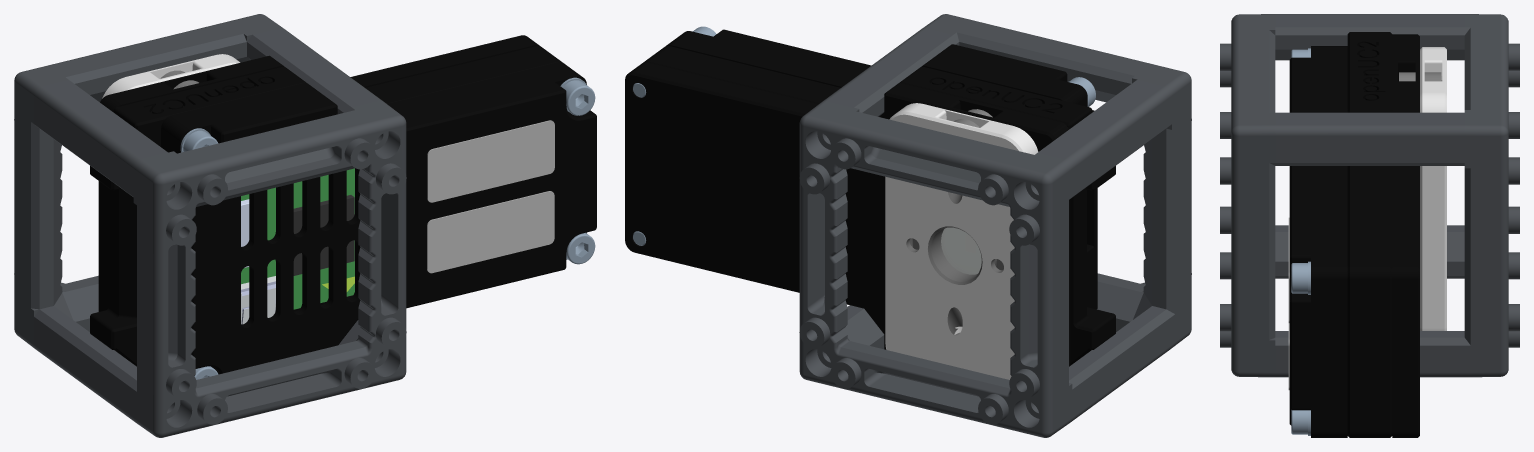
The model's file is ASS_-_2045_-_CUBCAM+RASPI0_-_V04.glb.
3 views of the same model, side by side, from view 1: azimuth 30°, elevation 25°; view 2: azimuth 150°, elevation 25°; view 3: azimuth 270°, elevation 25° (orthographic). The views are drawn at different scales.
Visible parts, largest first — view 1: PRT - 1003 - CUBHLF111 - V04:2, PRT - 2051 - INSCAMUPPHOU:1, PRT - 1003 - CUBHLF111 - V04:1, PRT - 2050 - INSCAM_RASPBERRY:1, PRT - 5003 - STKCAUDNTCOV25x10:1, PRT - 5001 - STKCAUHEA25x10:1, PRT - 2052 - INSCAMLOWHOU:1, BUY - Raspberry Pi 0:1, PRT - 2071 - SAMCLP:1, ISO 4762 - Hex socket head cap screw - M3 x 20 - 8.8 - A2K:1, ISO 4762 - Hex socket head cap screw - M3 x 20 - 8.8 - A2K:3; view 2: PRT - 1003 - CUBHLF111 - V04:1, PRT - 2052 - INSCAMLOWHOU:1, PRT - 1003 - CUBHLF111 - V04:2, PRT - 2071 - SAMCLP:1, PRT - 2050 - INSCAM_RASPBERRY:1, PRT - 2051 - INSCAMUPPHOU:1, BUY - Cover glass - D14 x 0.15 - Kopie:3; view 3: PRT - 1003 - CUBHLF111 - V04:2, PRT - 1003 - CUBHLF111 - V04:1, PRT - 2051 - INSCAMUPPHOU:1, PRT - 2050 - INSCAM_RASPBERRY:1, PRT - 2052 - INSCAMLOWHOU:1, PRT - 2071 - SAMCLP:1, ISO 4762 - Hex socket head cap screw - M3 x 20 - 8.8 - A2K:1, ISO 4762 - Hex socket head cap screw - M3 x 20 - 8.8 - A2K:3.
Part boxes in pixels (x1,y1,x2,y2): PRT - 1003 - CUBHLF111 - V04:2: (34, 28, 406, 437); PRT - 2051 - INSCAMUPPHOU:1: (161, 62, 596, 374); PRT - 1003 - CUBHLF111 - V04:1: (14, 14, 379, 358); PRT - 2050 - INSCAM_RASPBERRY:1: (90, 46, 562, 366); PRT - 5003 - STKCAUDNTCOV25x10:1: (427, 120, 554, 202); PRT - 5001 - STKCAUHEA25x10:1: (427, 191, 554, 273); PRT - 2052 - INSCAMLOWHOU:1: (98, 35, 540, 311); BUY - Raspberry Pi 0:1: (241, 168, 354, 324); PRT - 2071 - SAMCLP:1: (102, 54, 240, 98); ISO 4762 - Hex socket head cap screw - M3 x 20 - 8.8 - A2K:1: (563, 80, 595, 115); ISO 4762 - Hex socket head cap screw - M3 x 20 - 8.8 - A2K:3: (566, 233, 595, 264); PRT - 1003 - CUBHLF111 - V04:1: (799, 79, 1171, 437); PRT - 2052 - INSCAMLOWHOU:1: (625, 62, 1070, 366); PRT - 1003 - CUBHLF111 - V04:2: (823, 14, 1191, 421); PRT - 2071 - SAMCLP:1: (885, 103, 1038, 379); PRT - 2050 - INSCAM_RASPBERRY:1: (643, 46, 1115, 365); PRT - 2051 - INSCAMUPPHOU:1: (665, 29, 1097, 309); BUY - Cover glass - D14 x 0.15 - Kopie:3: (941, 227, 981, 274); PRT - 1003 - CUBHLF111 - V04:2: (1220, 14, 1464, 377); PRT - 1003 - CUBHLF111 - V04:1: (1275, 14, 1519, 377); PRT - 2051 - INSCAMUPPHOU:1: (1289, 46, 1347, 437); PRT - 2050 - INSCAM_RASPBERRY:1: (1347, 32, 1392, 437); PRT - 2052 - INSCAMLOWHOU:1: (1392, 34, 1419, 437); PRT - 2071 - SAMCLP:1: (1420, 47, 1446, 330); ISO 4762 - Hex socket head cap screw - M3 x 20 - 8.8 - A2K:1: (1291, 263, 1307, 293); ISO 4762 - Hex socket head cap screw - M3 x 20 - 8.8 - A2K:3: (1291, 410, 1307, 434).
Bounding box in the file's own units: 92.9 × 49.8 × 53.8.
